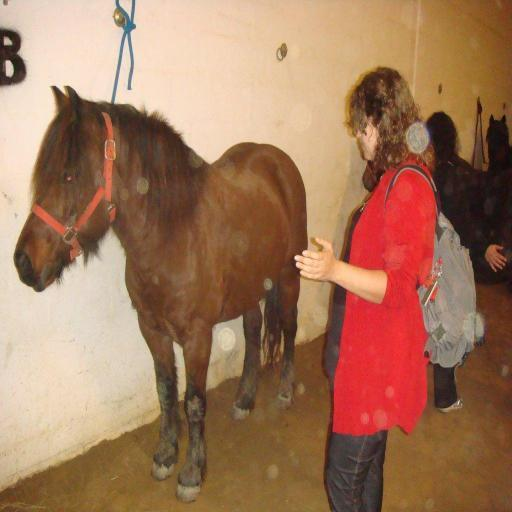horse: (12, 80, 310, 504)
